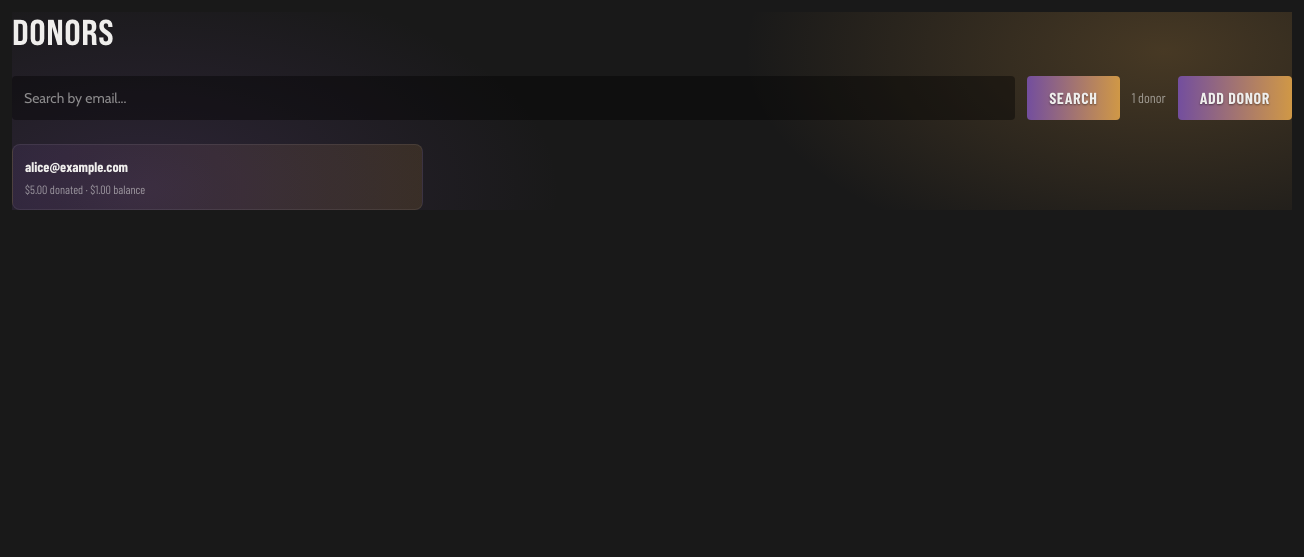
it: AdminDonors › shows balance adjustments history
The width and height of the screenshot is (1304, 557).
Click the text "alice@example.com": (76, 166) [25,158,128,175]
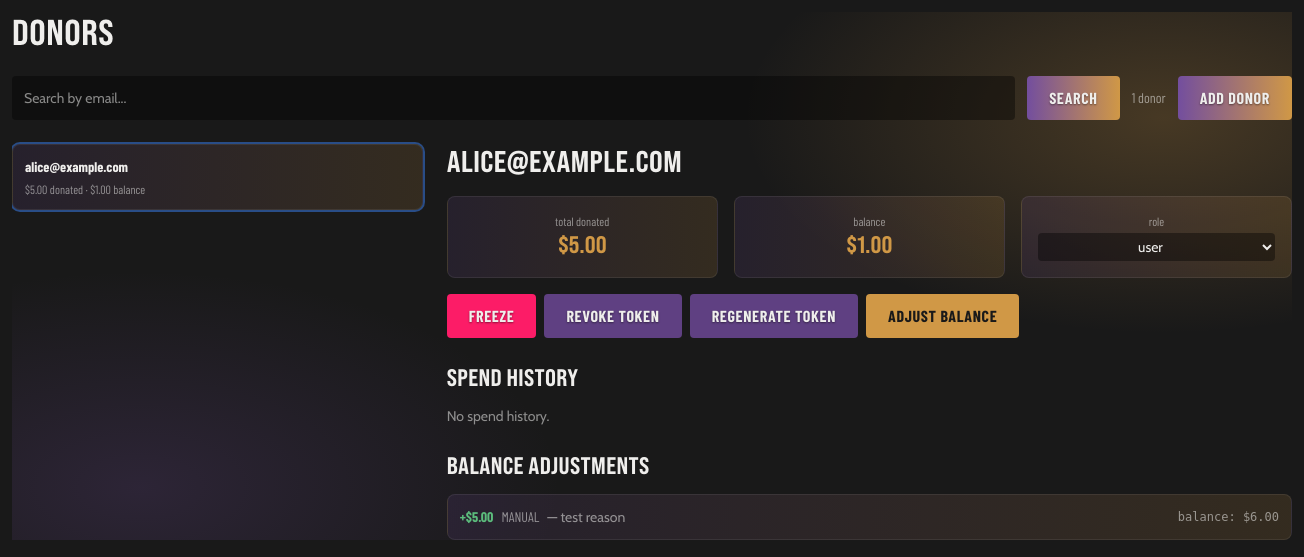
Result: the heading "balance adjustments" is shown at [447,452,650,479]
Result: the text "MANUAL" is shown at [501,508,539,525]
Result: the text "— test reason" is shown at [547,508,625,526]
